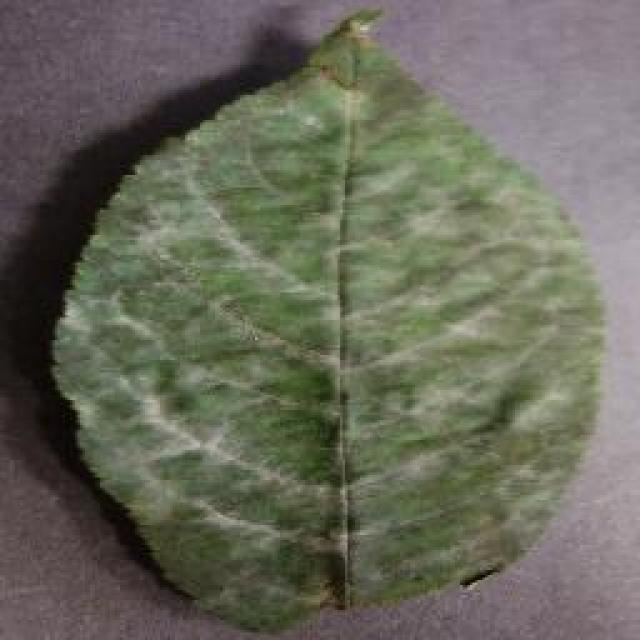Cherry___Powdery_mildew: (35, 0, 620, 640)
